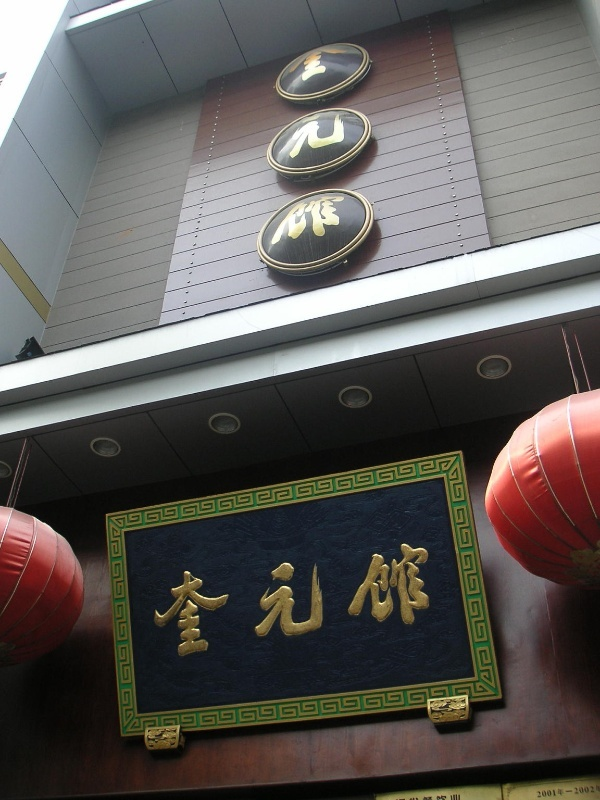text: (337, 42, 353, 250), (289, 42, 304, 250), (305, 42, 320, 250), (321, 42, 336, 250), (161, 540, 176, 662), (177, 540, 192, 662), (193, 540, 208, 662), (209, 540, 224, 662), (225, 540, 240, 662), (241, 540, 256, 662), (257, 540, 272, 662), (273, 540, 288, 662), (289, 540, 304, 662), (305, 540, 320, 662), (321, 540, 336, 662), (337, 540, 352, 662), (353, 540, 368, 662), (369, 540, 384, 662), (385, 540, 400, 662), (401, 540, 416, 662), (417, 540, 432, 662), (146, 540, 160, 662), (433, 540, 439, 662), (286, 42, 288, 250)
